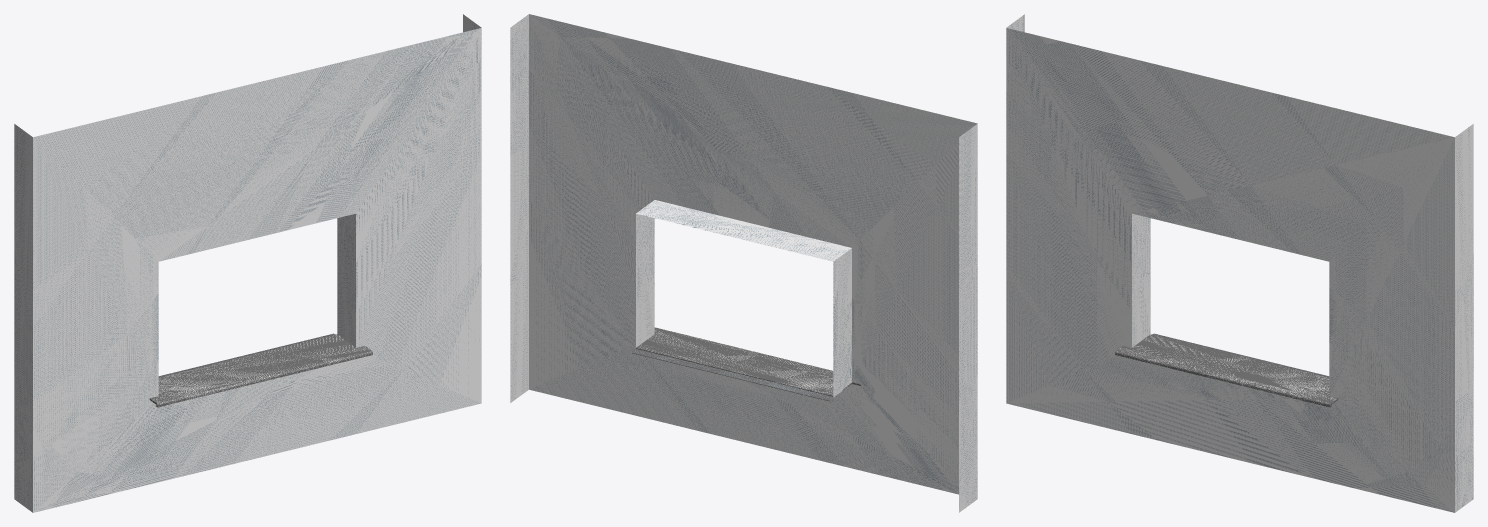
File: WindowBlock_os_[500x400]_220x143x[090].dae
3 renders of one model, left to right at view 1: azimuth 30°, elevation 25°; view 2: azimuth 150°, elevation 25°; view 3: azimuth 330°, elevation 25°, orthographic.
Parts seen in each view (by area): view 1: group_1 (×2), group_2; view 2: group_1 (×2), group_2 (×2); view 3: group_1 (×2), group_2.
Part boxes in pixels (box(x1,y1,x2,y2)): group_1 (×2): box(14, 14, 481, 512); group_2: box(149, 334, 372, 407); group_1 (×2): box(510, 14, 977, 512); group_2 (×2): box(632, 327, 860, 401); group_1 (×2): box(1006, 14, 1473, 512); group_2: box(1115, 334, 1337, 407).
Bounding box in the file's own units: 197 × 23.03 × 157.
